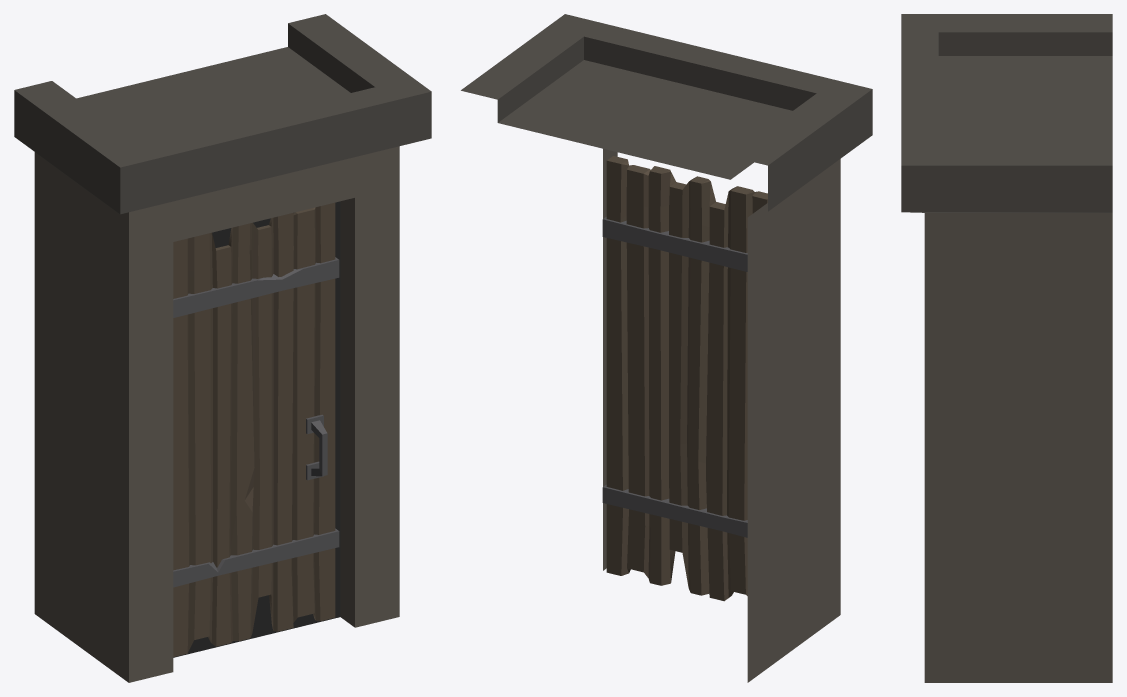
File: SM_Bld_Fort_Door_03.glb
3 views of the same model, side by side, from view 1: azimuth 30°, elevation 25°; view 2: azimuth 150°, elevation 25°; view 3: azimuth 270°, elevation 25° (orthographic).
Visible parts, largest first — view 1: SM_Bld_Fort_Door_03; view 2: SM_Bld_Fort_Door_03; view 3: SM_Bld_Fort_Door_03.
Part boxes in pixels (box(x1,y1,x2,y2)): SM_Bld_Fort_Door_03: box(14, 14, 431, 682); SM_Bld_Fort_Door_03: box(461, 14, 872, 682); SM_Bld_Fort_Door_03: box(901, 14, 1112, 682).
Size of the model in its own units: 0.0148 by 0.024 by 0.00871.
